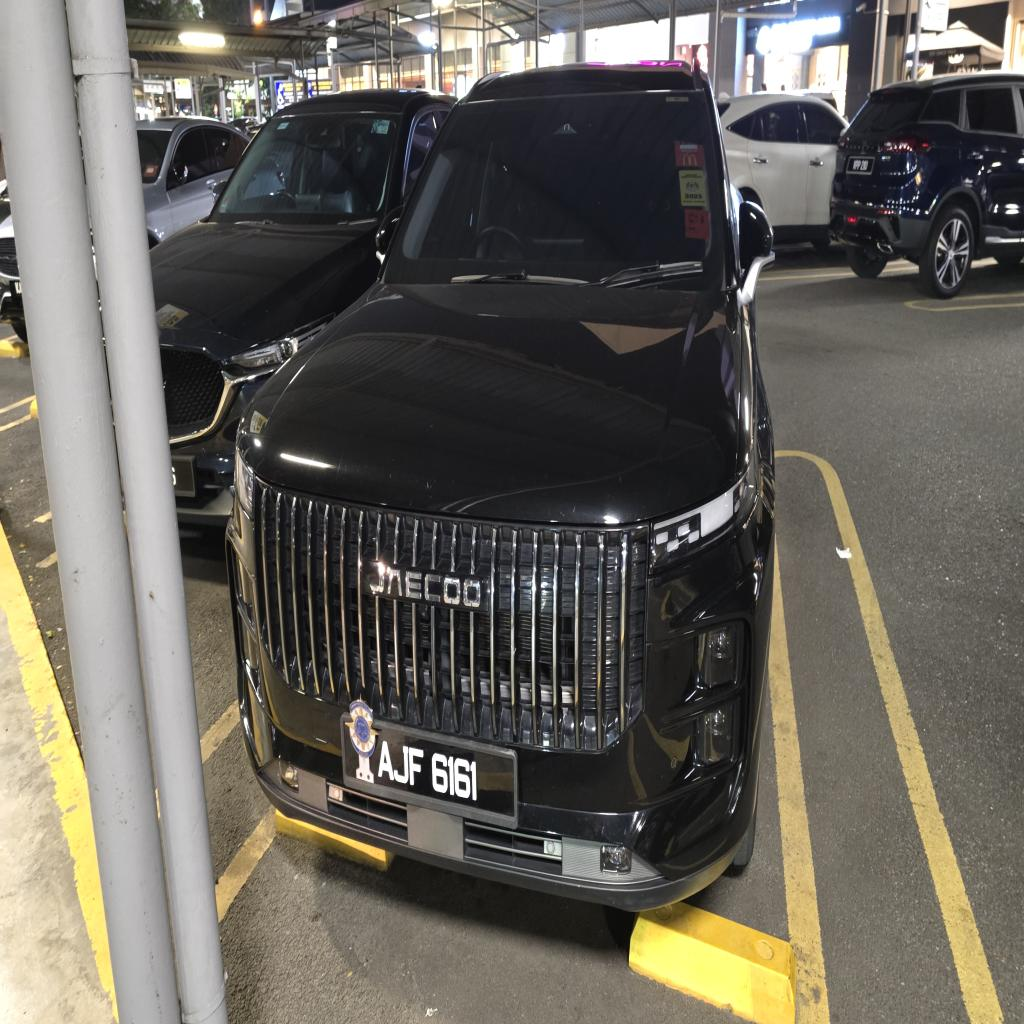car: (228, 65, 774, 908)
car plate: (341, 714, 516, 822)
